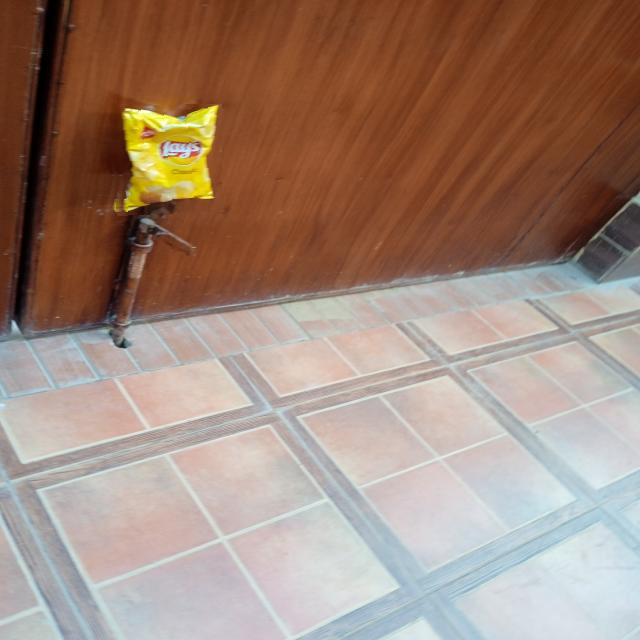Plastic: (106, 104, 222, 216)
